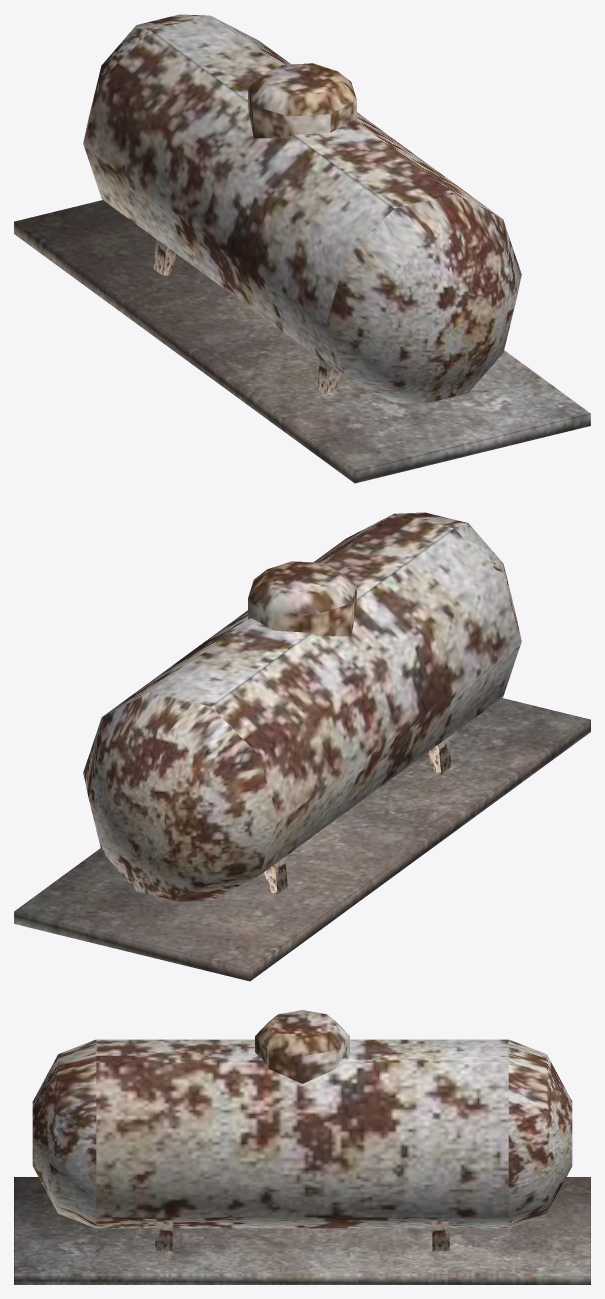
File: psx_industrial_pack_propane_tank.glb
The picture shows the model from 3 angles, top to bottom: view 1: azimuth 30°, elevation 25°; view 2: azimuth 150°, elevation 25°; view 3: azimuth 270°, elevation 25°; orthographic projection. The views are drawn at different scales.
Visible parts, largest first — view 1: PropaneTank; view 2: PropaneTank; view 3: PropaneTank.
Boxes of the visible parts, x1=… form: PropaneTank: x1=14, y1=14, x2=590, y2=483; PropaneTank: x1=14, y1=512, x2=590, y2=981; PropaneTank: x1=14, y1=1010, x2=590, y2=1284.
Size of the model in its own units: 2 by 2.02 by 5.
1 material, 1 textured.
